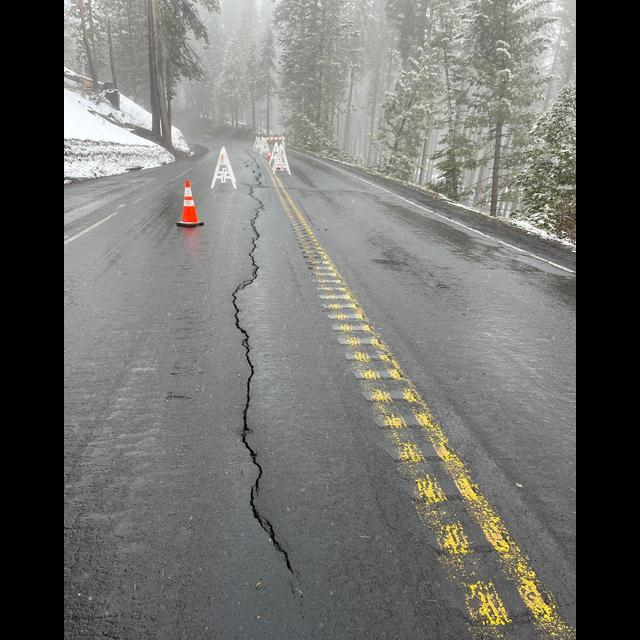retak_memanjang: (221, 157, 302, 583)
